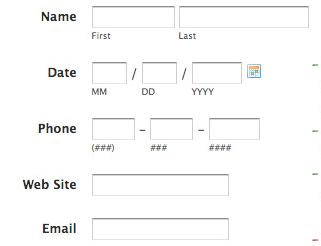field: (91, 173, 230, 198), (88, 216, 230, 240), (179, 5, 311, 29), (91, 5, 177, 29), (192, 61, 243, 86), (208, 117, 260, 141), (148, 116, 193, 142), (92, 117, 135, 142), (90, 61, 130, 84), (142, 62, 179, 85)
field_with_label: (22, 171, 231, 200), (43, 214, 232, 242), (177, 4, 312, 41), (40, 4, 176, 30), (90, 3, 175, 40), (39, 115, 137, 144), (49, 59, 131, 85), (189, 60, 246, 95), (206, 116, 262, 151), (145, 115, 195, 152), (88, 115, 138, 151), (88, 59, 130, 96), (139, 60, 181, 96)
